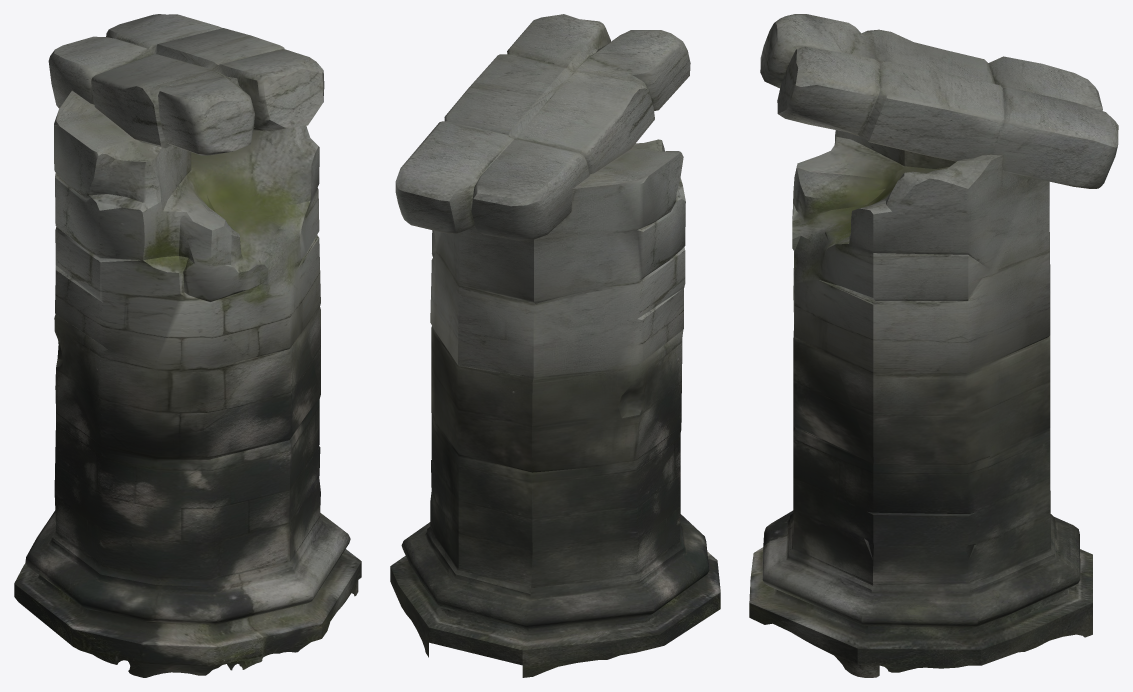
Rendered from sutun.fbx.
3 views of the same model, side by side, from view 1: azimuth 30°, elevation 25°; view 2: azimuth 150°, elevation 25°; view 3: azimuth 270°, elevation 25° (orthographic). The views are drawn at different scales.
Parts seen in each view (by area): view 1: sutun; view 2: sutun; view 3: sutun.
Boxes of the visible parts, left/top/right/bottom form: sutun: left=14, top=14, right=361, bottom=677; sutun: left=390, top=14, right=720, bottom=677; sutun: left=749, top=14, right=1118, bottom=677.
Size of the model in its own units: 158 by 175 by 300.
1 material, 1 textured.
